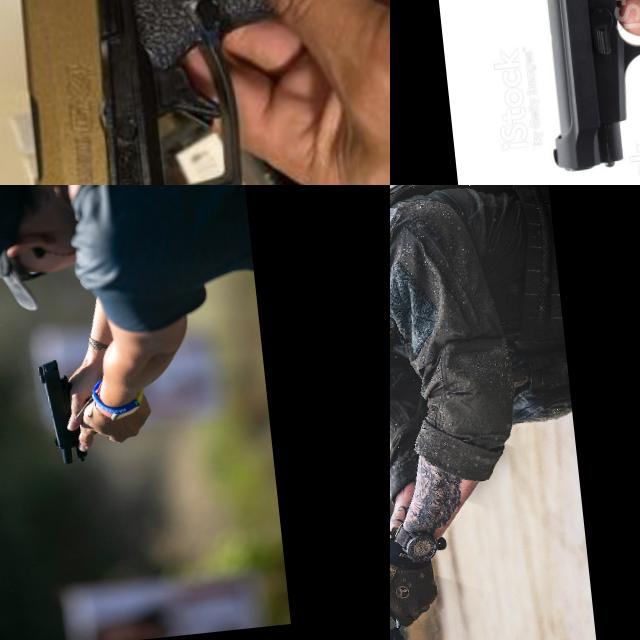handgun: (0, 0, 390, 185), (513, 0, 640, 185), (34, 354, 90, 470), (390, 553, 427, 640)
